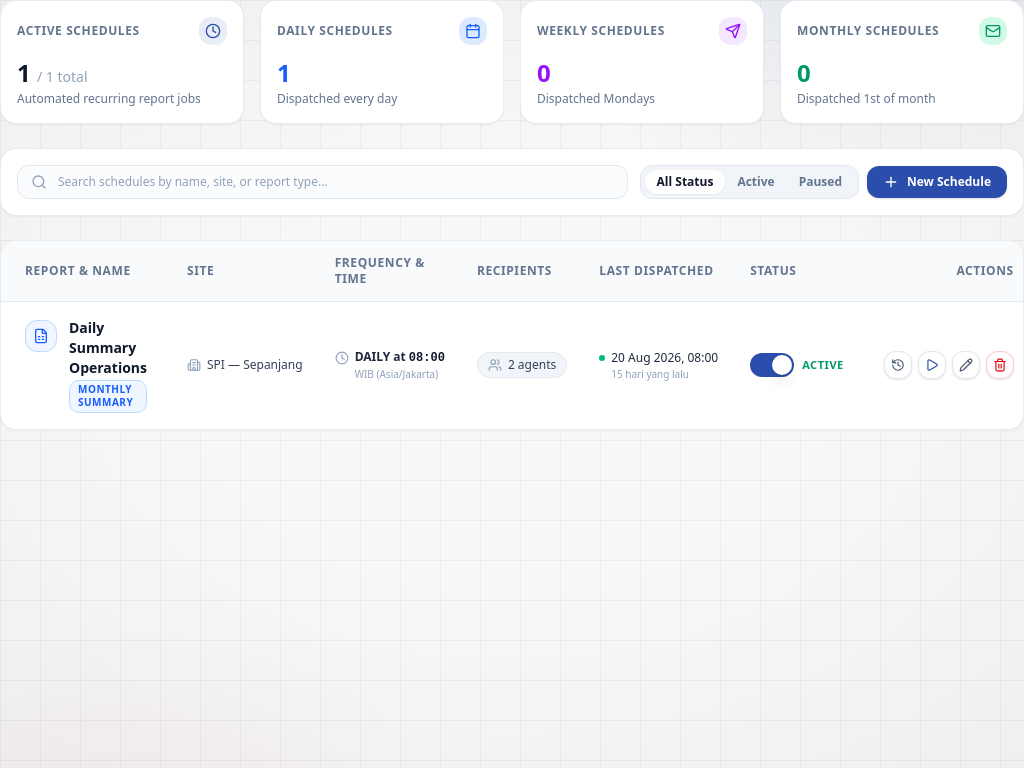
ScheduledReportsTab › opens create modal with modern recipient picker and search filter
Click the button "New Schedule" at x=937, y=182, box x1=867 y1=166 x2=1007 y2=198
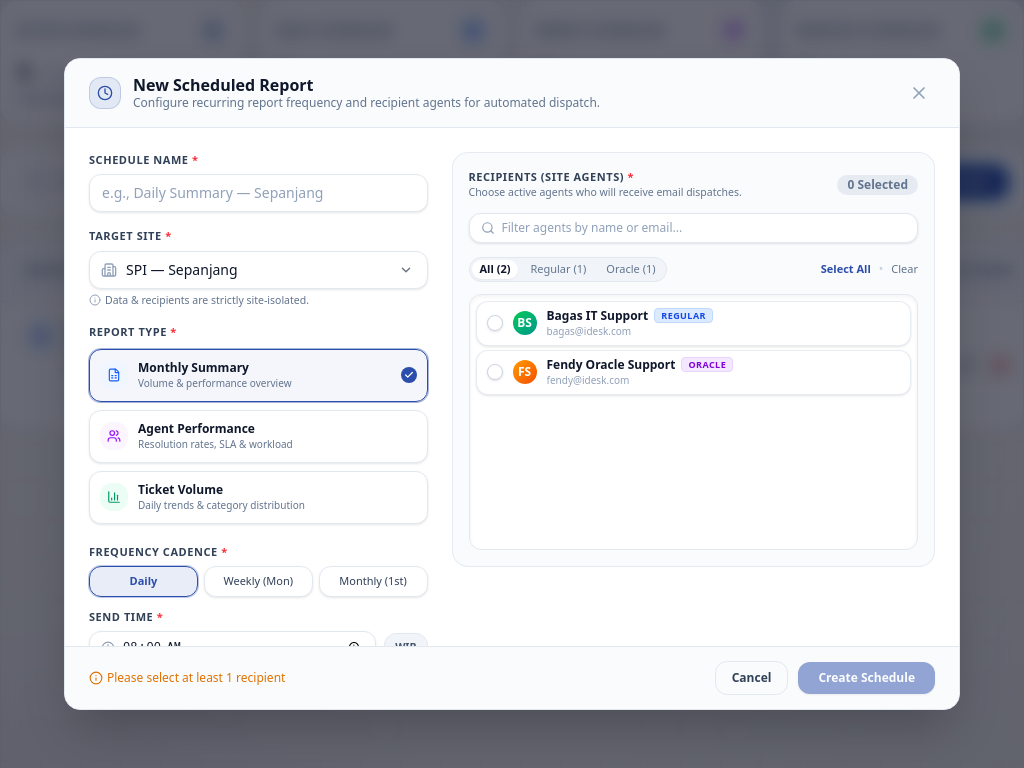
expect the heading "New Scheduled Report" is shown: met, box x1=133 y1=74 x2=314 y2=96
expect the field with placeholder "Filter agents by name or email..." is shown: met, box x1=468 y1=213 x2=918 y2=243
expect the text "Bagas IT Support" is shown: met, box x1=546 y1=308 x2=648 y2=324
